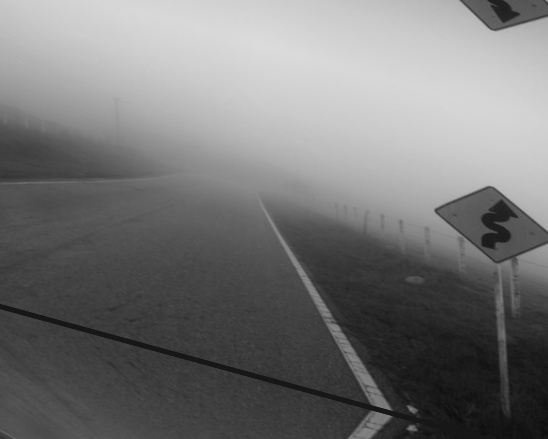Curve Road: (423, 183, 547, 269)
